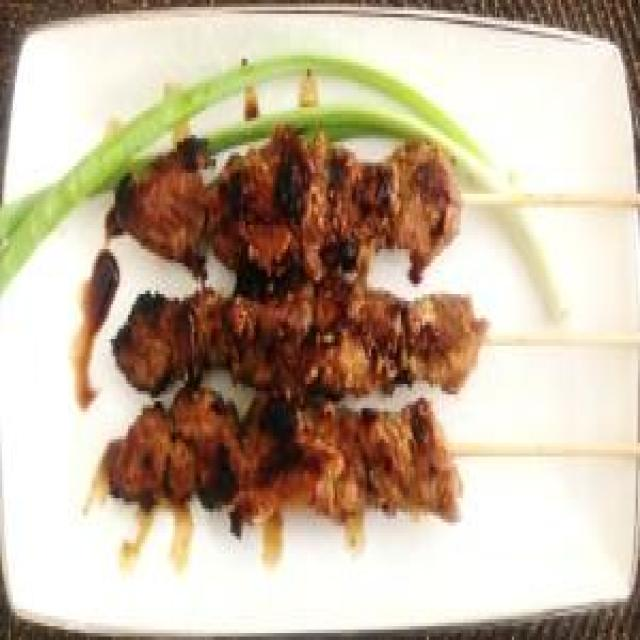Sate: (102, 144, 640, 576)
